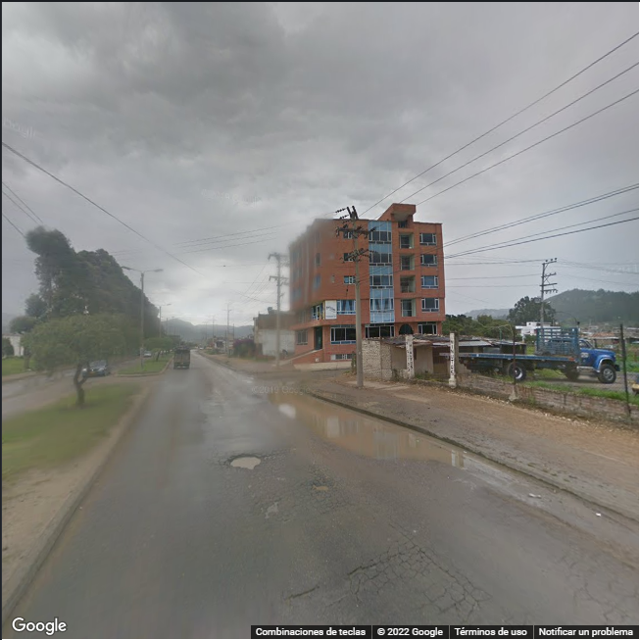D00: (421, 547, 483, 600)
D10: (339, 545, 422, 569), (278, 581, 324, 598)
D40: (225, 446, 262, 473)
